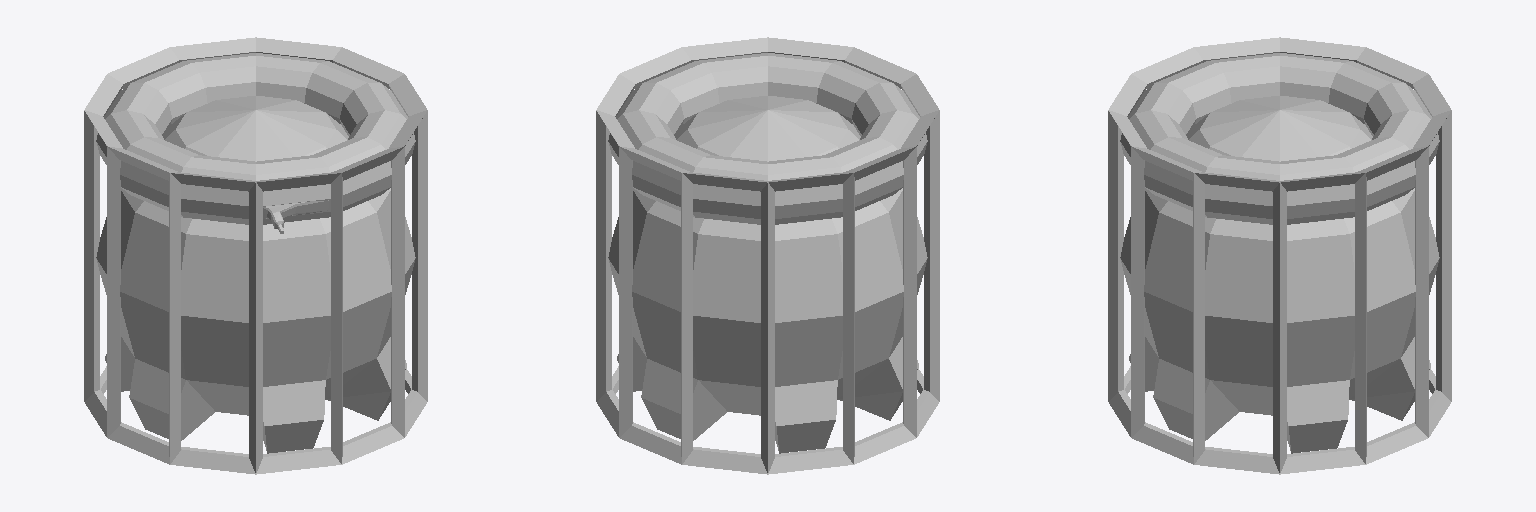
The model's file is ModuleT1.obj.
3 views of the same model, side by side, from view 1: azimuth 30°, elevation 25°; view 2: azimuth 150°, elevation 25°; view 3: azimuth 270°, elevation 25° (orthographic).
Parts seen in each view (by area): view 1: ModuleT1_Cylinder.005; view 2: ModuleT1_Cylinder.005; view 3: ModuleT1_Cylinder.005.
Boxes of the visible parts, box(x1,y1,x2,y2) form: ModuleT1_Cylinder.005: box(84, 37, 427, 474); ModuleT1_Cylinder.005: box(596, 37, 939, 474); ModuleT1_Cylinder.005: box(1108, 37, 1451, 474).
Size of the model in its own units: 3.2 by 3 by 3.2.